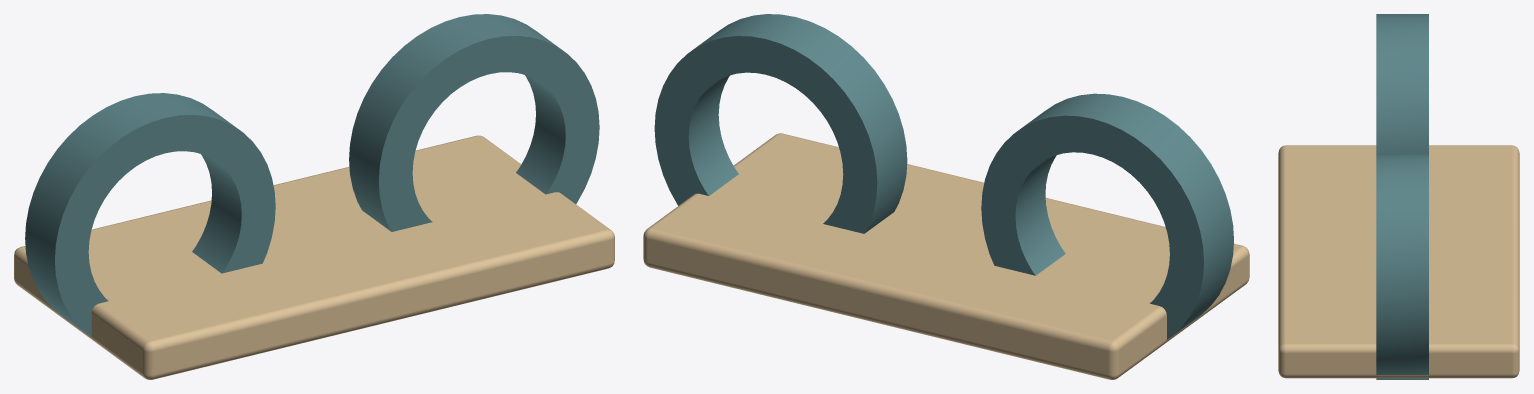
The model's file is candlemaking-and-soap-workshop-mold-release-cradle-842fc69d__30662.glb.
3 renders of one model, left to right at view 1: azimuth 30°, elevation 25°; view 2: azimuth 150°, elevation 25°; view 3: azimuth 270°, elevation 25°, orthographic. The views are drawn at different scales.
Visible parts, largest first — view 1: mold-release-cradle; view 2: mold-release-cradle; view 3: mold-release-cradle.
Part boxes in pixels (x1,y1,x2,y2): mold-release-cradle: (14, 14, 614, 379); mold-release-cradle: (643, 14, 1249, 379); mold-release-cradle: (1278, 14, 1519, 379).
Size of the model in its own units: 0.37 by 0.15 by 0.16.
